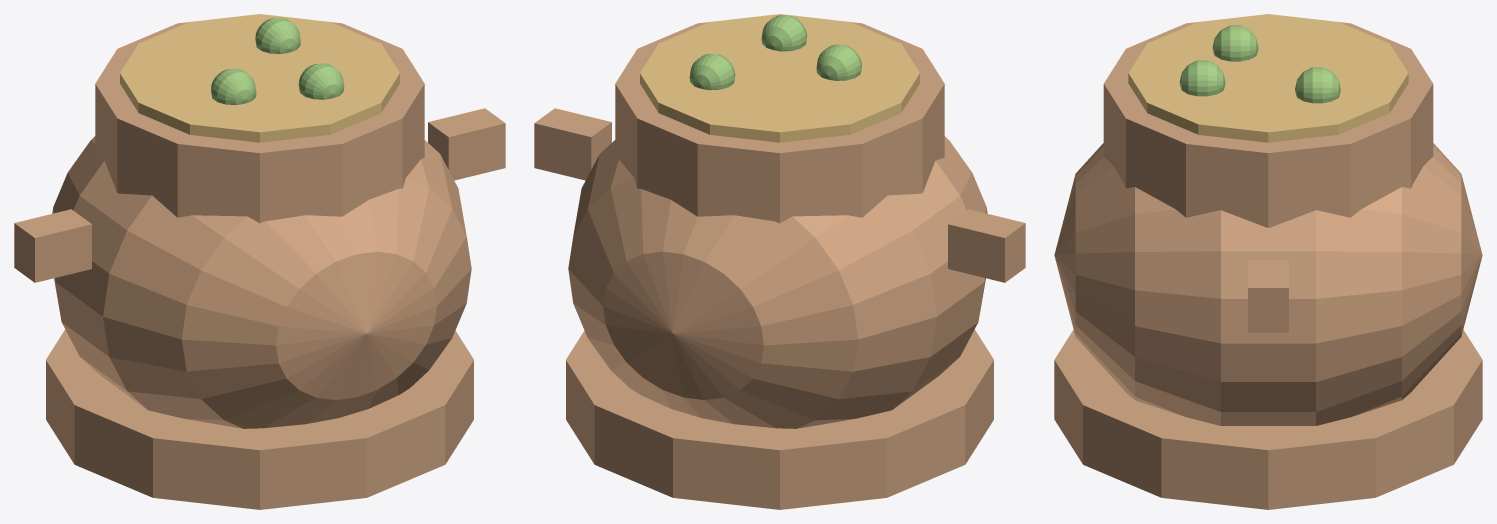
File: item_pottage.glb
3 views of the same model, side by side, from view 1: azimuth 30°, elevation 25°; view 2: azimuth 150°, elevation 25°; view 3: azimuth 270°, elevation 25° (orthographic).
Parts seen in each view (by area): view 1: clay, stew, leaf; view 2: clay, stew, leaf; view 3: clay, stew, leaf.
Part boxes in pixels (x1,y1,x2,y2): clay: (14,22,505,509); stew: (120,14,399,142); leaf: (211,17,344,104); clay: (534,22,1025,509); stew: (640,14,919,142); leaf: (689,15,861,90); clay: (1054,22,1482,509); stew: (1128,14,1408,142); leaf: (1179,25,1340,103).
Bounding box in the file's own units: 0.33 × 0.2486 × 0.26.
